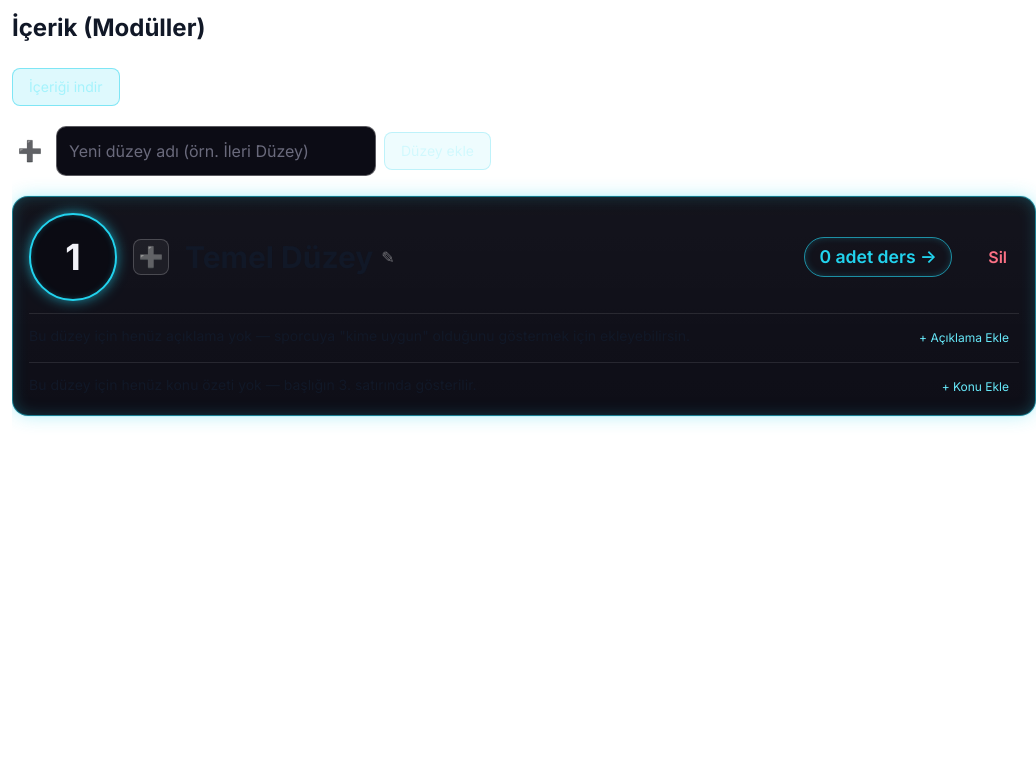
Test: Admin içerik sayfası — düzey konu özeti (madde 2026-09-07 (2)) › "+ Konu Ekle" tıklanınca textarea açılır ve Temel Düzey için öneri butonu görünür
Click the button "+ Konu Ekle" at (975, 387), box top-left (932, 375), bottom-right (1019, 399)
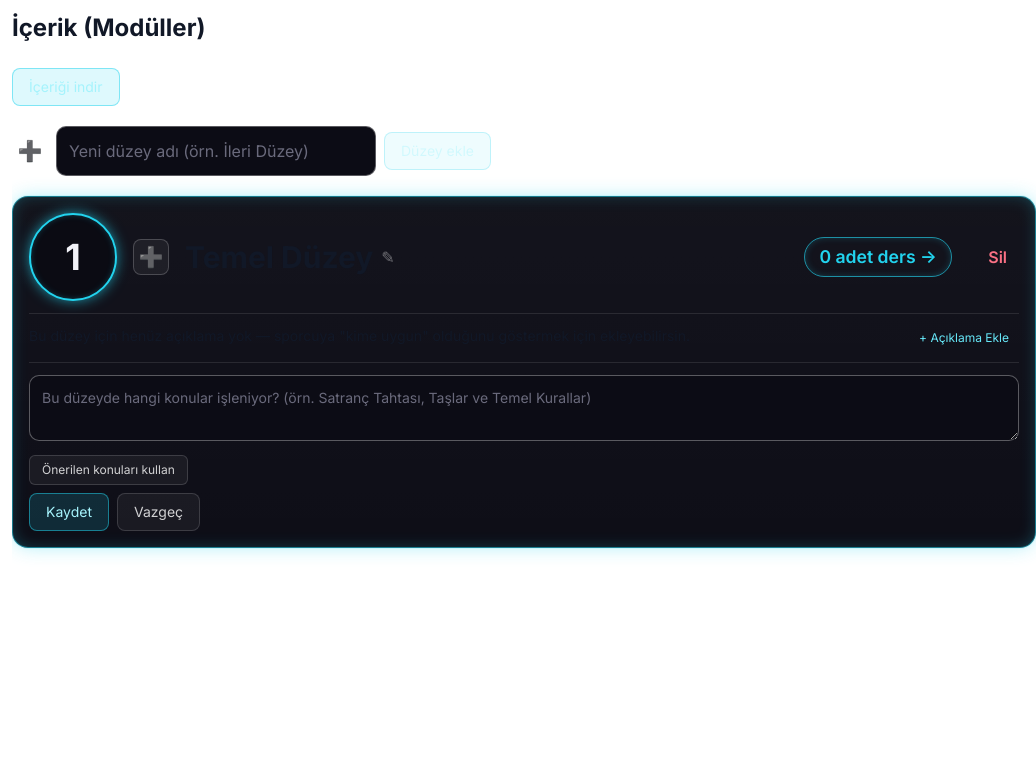
Result: the text box with placeholder "hangi konular işleniyor" is shown at top-left (29, 375), bottom-right (1019, 441)
Result: the button "Önerilen konuları kullan" is shown at top-left (29, 455), bottom-right (188, 485)
